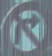Don't turn right: (3, 5, 46, 55)
